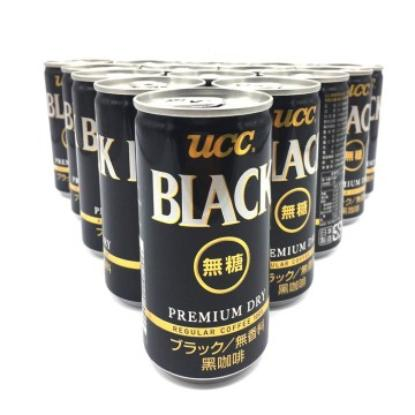Can: (135, 87, 273, 380)
